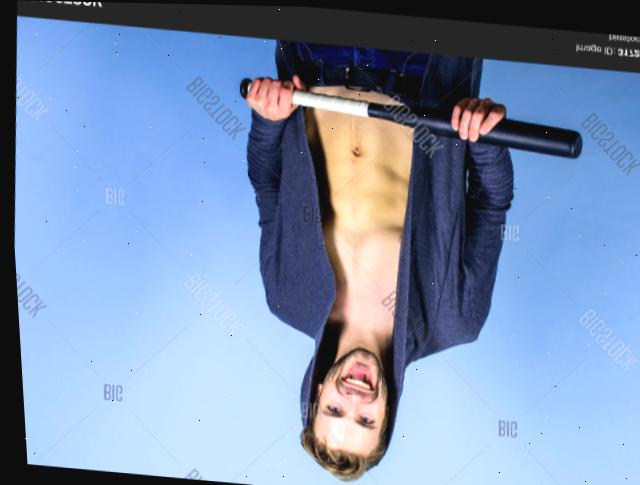baseball bat: (230, 72, 585, 157)
